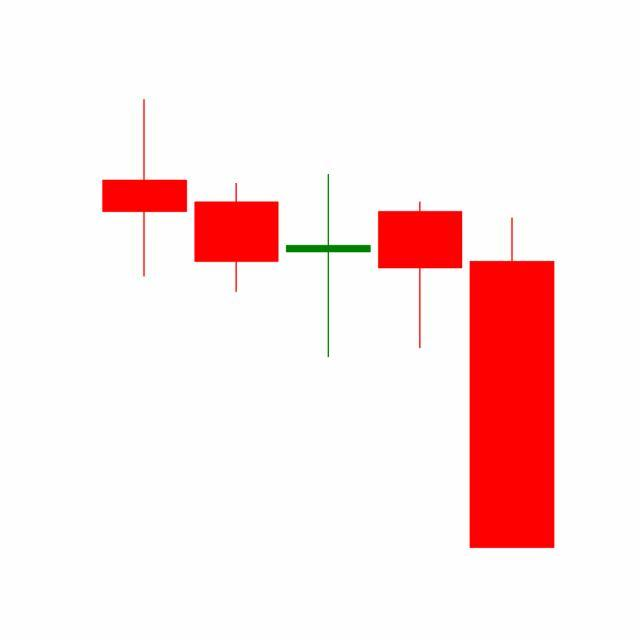Three Outside Up-Down: (280, 170, 555, 549)
